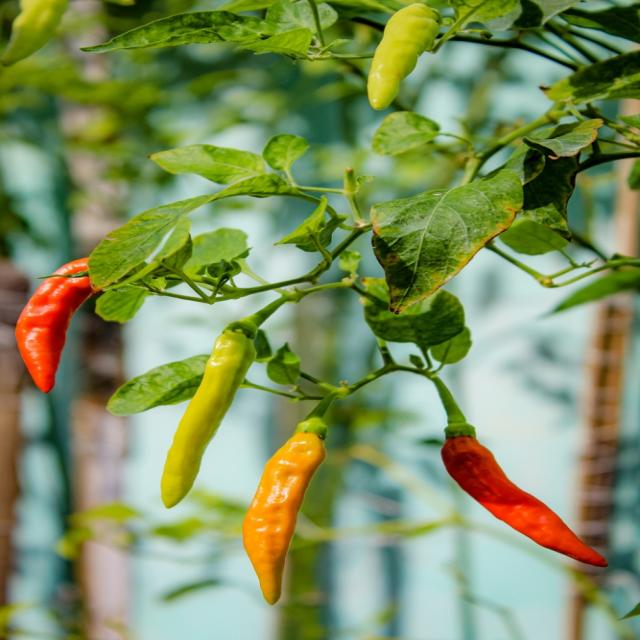Half-Ripe: (244, 431, 326, 604)
Ripe: (440, 436, 607, 566), (15, 255, 94, 392)
Unripe: (161, 330, 255, 506), (367, 2, 440, 110)
